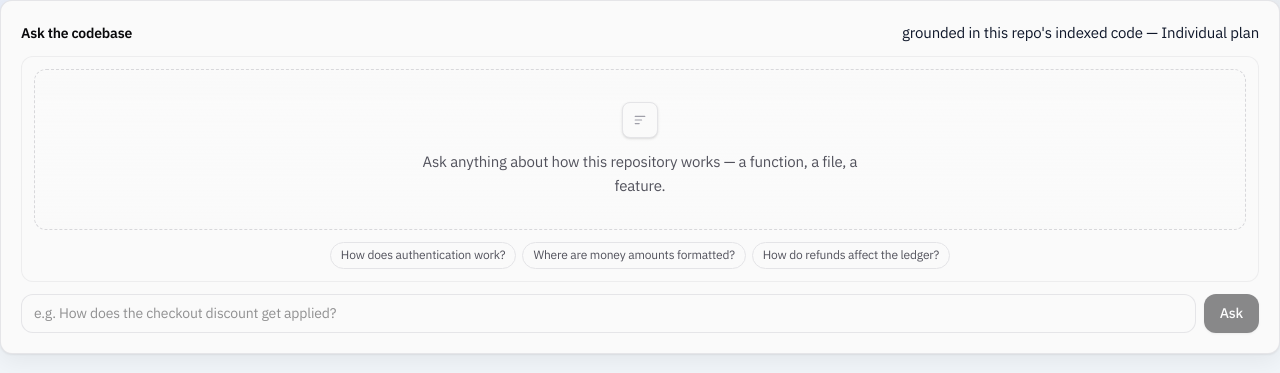
it: RepoChat › asks a typed question via the input form
Type "how do refunds work?" into the field with placeholder "e.g. How does the checkout discount get applied?".
click(608, 313); type("how do refunds work?")  # box [21, 294, 1196, 332]
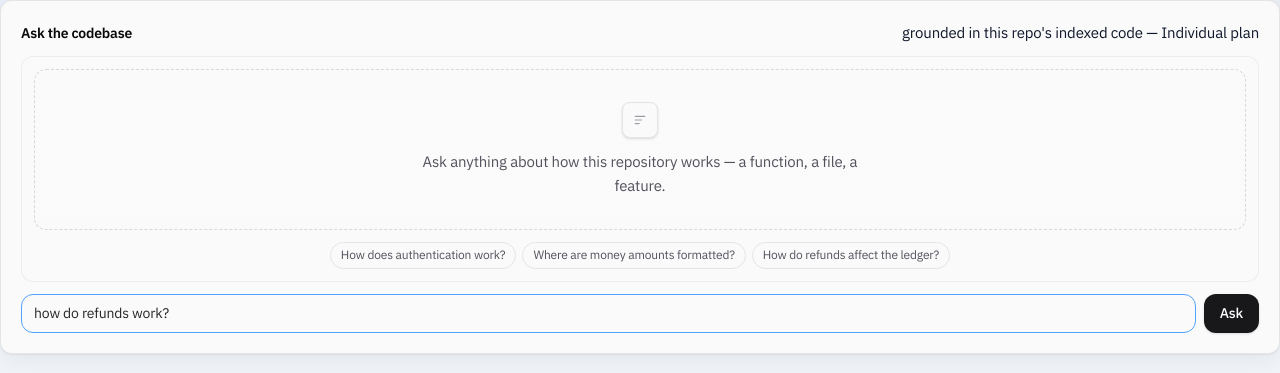
Click the button "Ask".
click(1231, 313)  # box [1204, 294, 1259, 332]
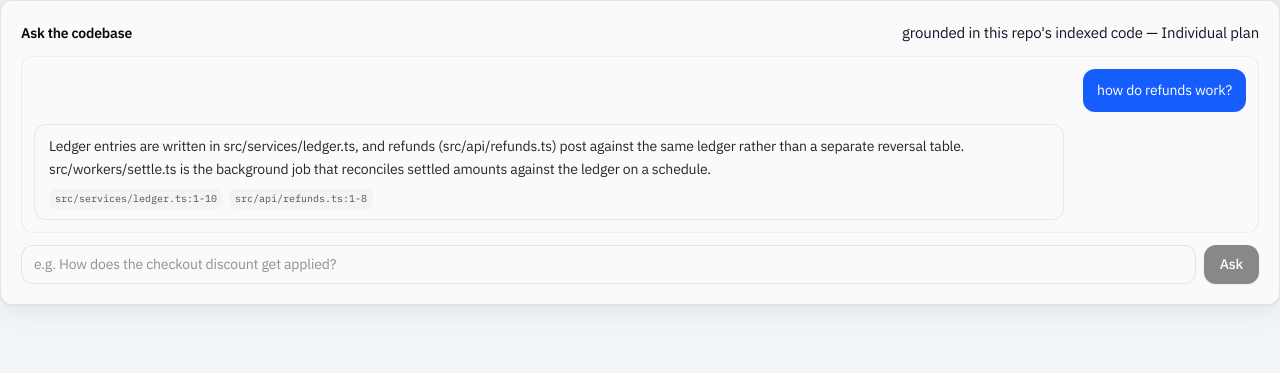
Expected: the text "how do refunds work?" is shown, [1097, 81, 1232, 99]
Expected: the text "post against the same ledger" is shown, [49, 137, 967, 178]
